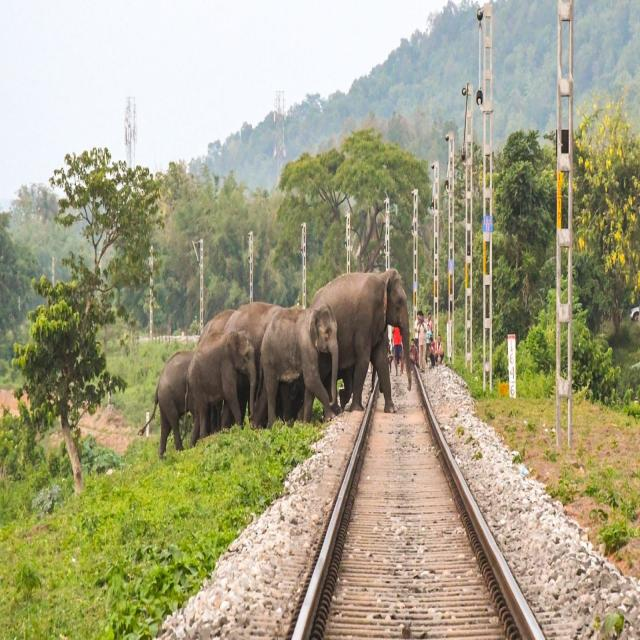Elephant: (333, 260, 417, 419), (257, 299, 344, 442), (187, 331, 260, 441), (148, 349, 188, 446)
